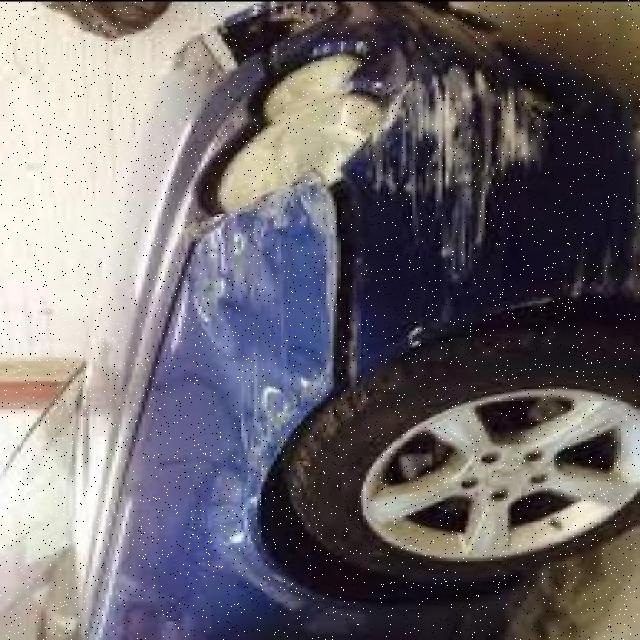damage: (179, 40, 564, 540), (505, 238, 640, 313)
